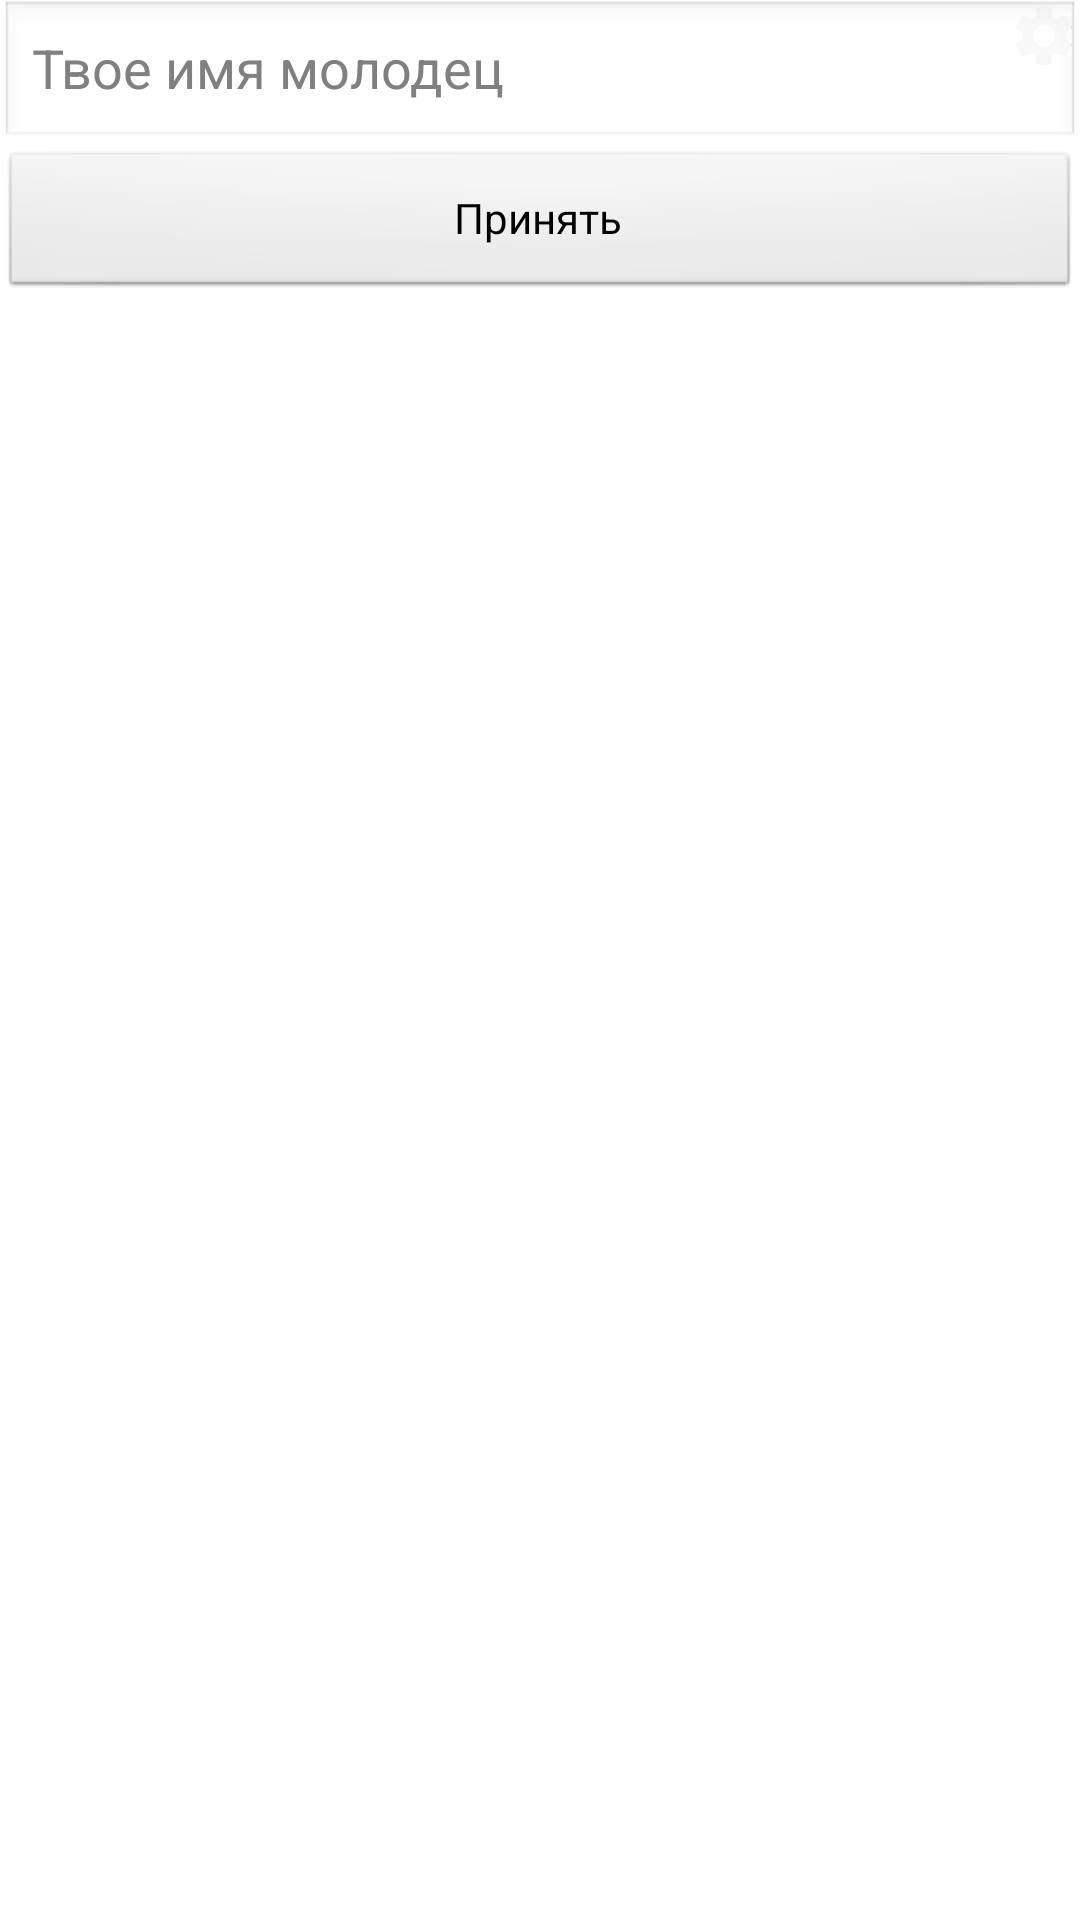

Icons on this 1080px x 1920px Android screen, each with the point to tap as (x=x, y=y):
settings: (x=1041, y=37)
